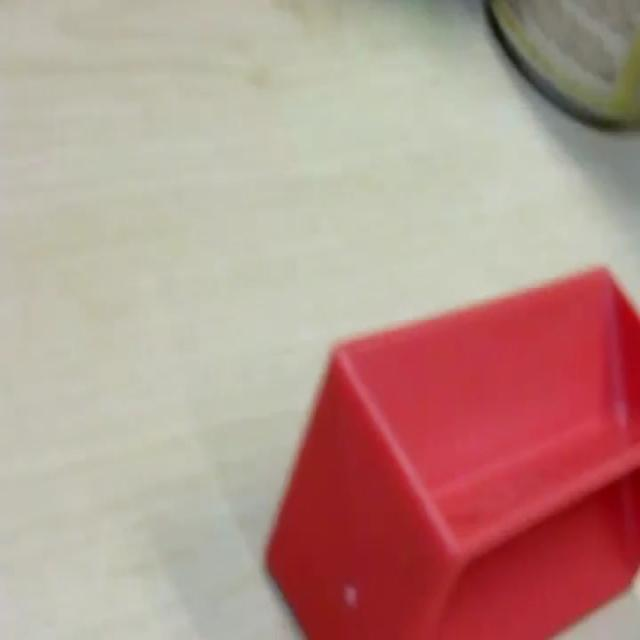red_block: (262, 262, 638, 638)
